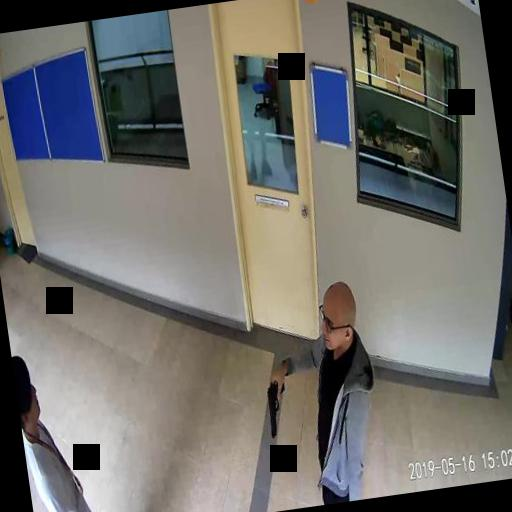Handgun: (262, 376, 290, 436)
